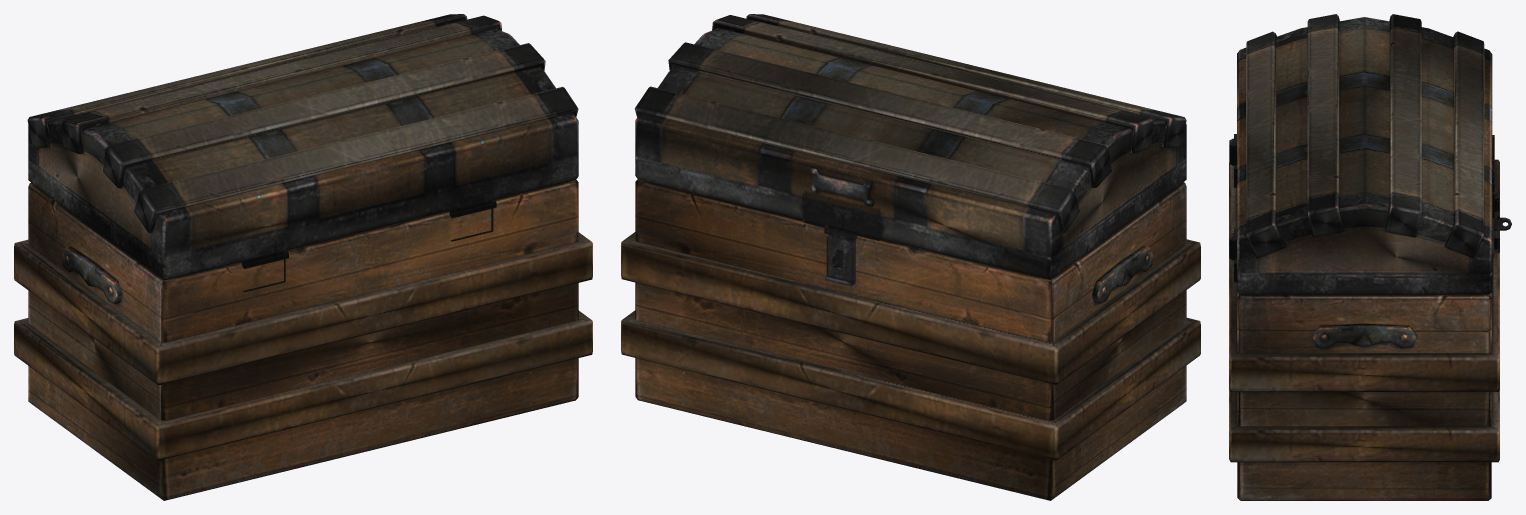
File: chest-normal.glb
The picture shows the model from 3 angles, left to right: view 1: azimuth 30°, elevation 25°; view 2: azimuth 150°, elevation 25°; view 3: azimuth 270°, elevation 25°; orthographic projection. The views are drawn at different scales.
Parts seen in each view (by area): view 1: chest-normal_mesh; view 2: chest-normal_mesh; view 3: chest-normal_mesh.
Boxes of the visible parts, x1,y1,x2,y2 form: chest-normal_mesh: (14, 14, 592, 500); chest-normal_mesh: (621, 14, 1200, 500); chest-normal_mesh: (1229, 14, 1511, 500).
Bounding box in the file's own units: 0.8431 × 0.5879 × 0.5063.
Materials: 1 (1 with a texture image).
